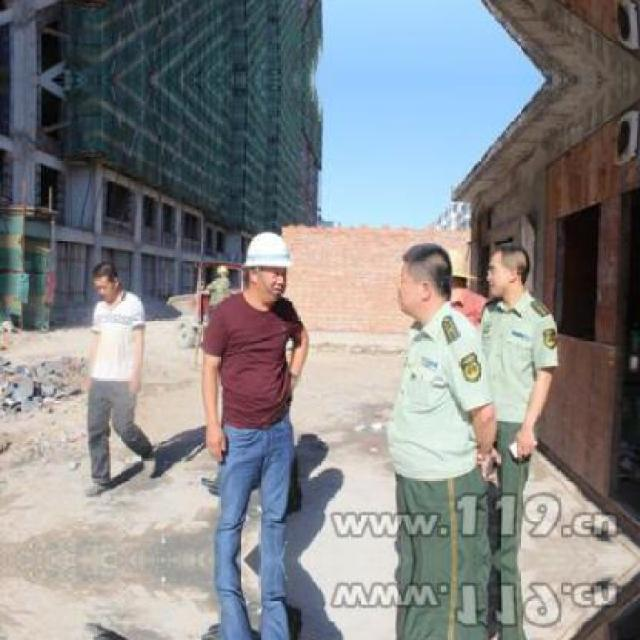helmet: (244, 231, 298, 272)
nohelmet: (398, 242, 452, 318), (482, 245, 532, 300), (90, 264, 120, 302)
